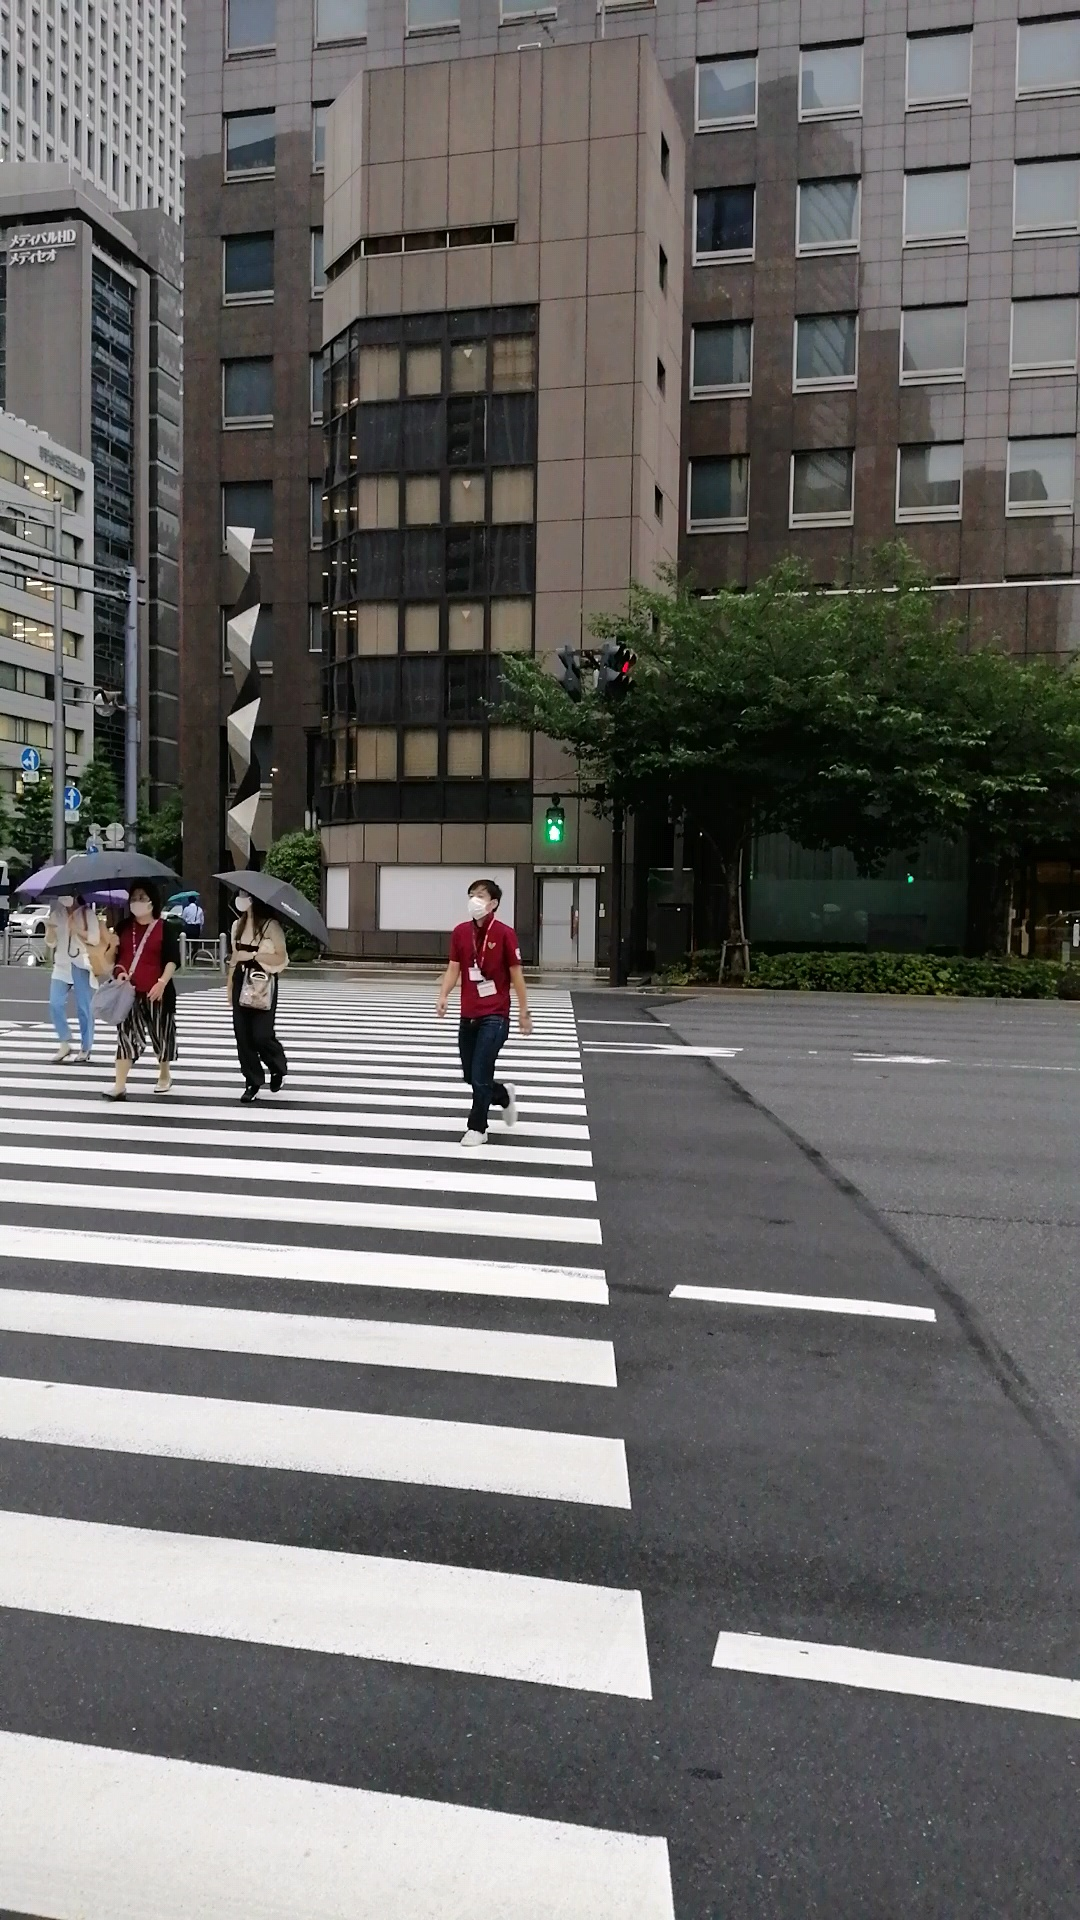green: (545, 804, 564, 845)
